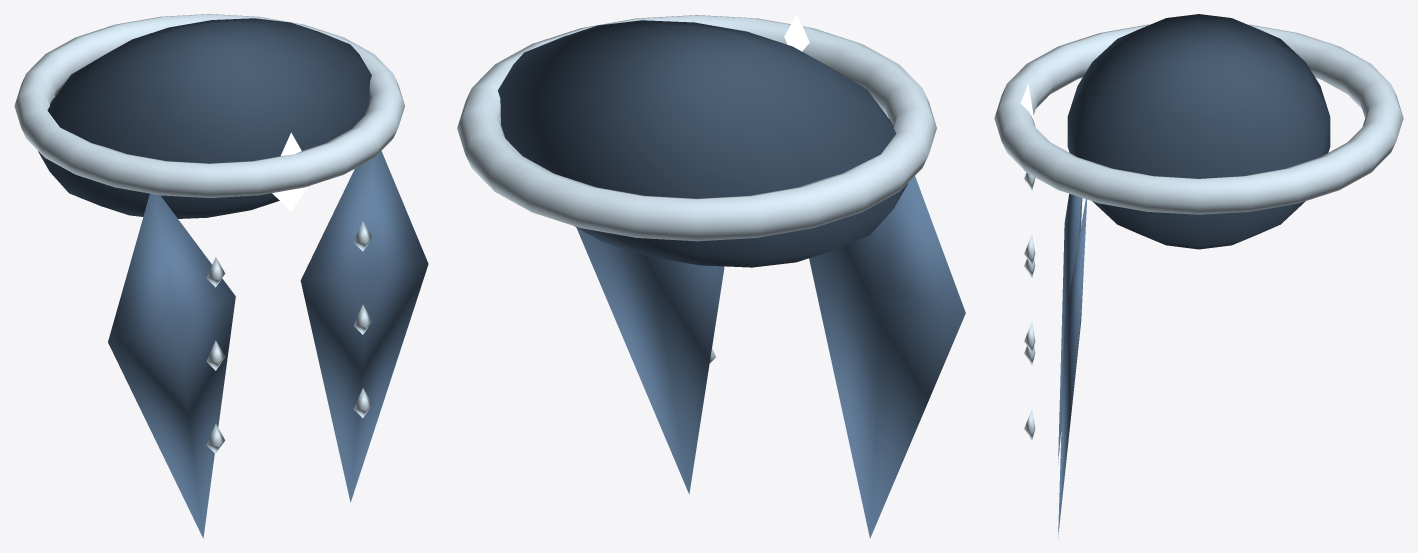
File: boss_winter_court_inner_garment.glb
The picture shows the model from 3 angles, left to right: view 1: azimuth 30°, elevation 25°; view 2: azimuth 150°, elevation 25°; view 3: azimuth 270°, elevation 25°; orthographic projection. The views are drawn at different scales.
Parts seen in each view (by area): view 1: Boss_winter_court_0, Boss_winter_court_3, Boss_winter_court_1, Boss_winter_court_2; view 2: Boss_winter_court_3, Boss_winter_court_0, Boss_winter_court_1; view 3: Boss_winter_court_3, Boss_winter_court_1, Boss_winter_court_0.
Boxes of the visible parts, x1,y1,x2,y2 form: Boss_winter_court_0: (108,151,428,538); Boss_winter_court_3: (38,18,371,218); Boss_winter_court_1: (14,14,404,453); Boss_winter_court_2: (272,132,308,211); Boss_winter_court_3: (498,20,908,267); Boss_winter_court_0: (576,176,965,538); Boss_winter_court_1: (457,15,936,363); Boss_winter_court_3: (1067,14,1330,249); Boss_winter_court_1: (994,24,1403,440); Boss_winter_court_0: (1058,194,1086,537).
Size of the model in its own units: 0.552 by 0.675 by 0.552.
